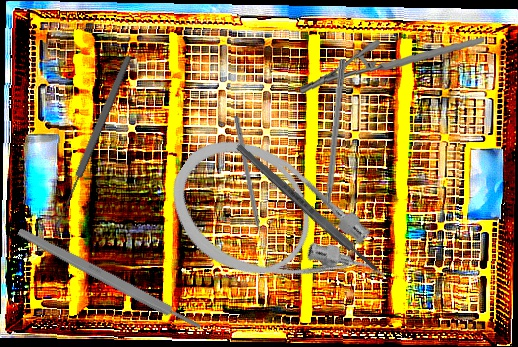Cannula: (148, 114, 408, 344)
Needle Holder: (299, 24, 485, 107)
Pusher: (319, 58, 347, 233), (232, 115, 265, 250)
Scalpel Handle: (15, 225, 204, 334), (233, 141, 382, 275)
Surgical Spoon: (51, 53, 134, 231)
